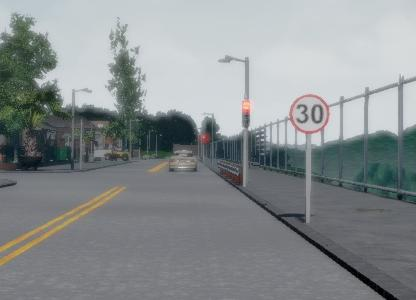Speed_30: (288, 90, 329, 135)
